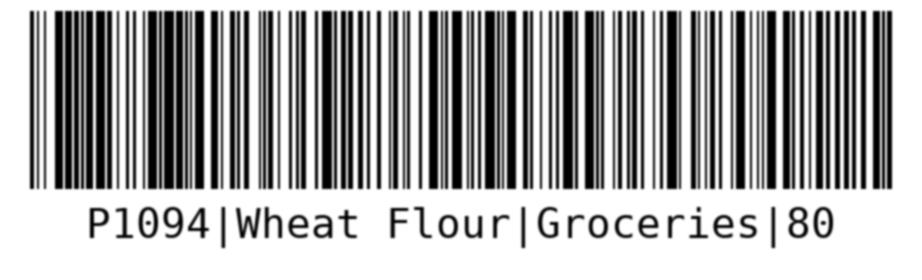milk: (24, 5, 899, 259)
